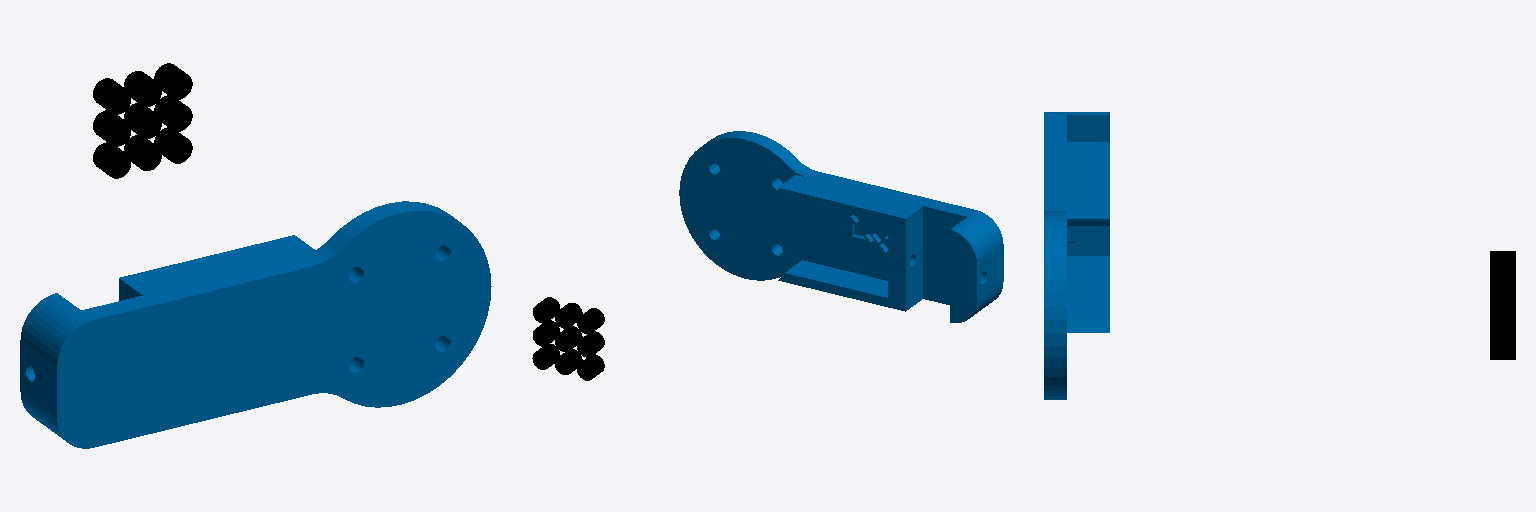
--- Facts derived from the render (not from the file) ---
3 views of the same robot in one strip: view 1: azimuth 30°, elevation 25°; view 2: azimuth 150°, elevation 25°; view 3: azimuth 270°, elevation 25° (orthographic).
Robot: ur5e_cam — 34 links, 33 joints (15 revolute, 18 fixed); root link world; default pose: all joints at 0.
Links seen in each view (by area): view 1: support, vacuum_gripper5, vacuum_gripper3, vacuum_gripper7, vacuum_gripper6, vacuum_gripper1, vacuum_gripper4, vacuum_gripper8, vacuum_gripper2, vacuum_gripper; view 2: support; view 3: support, vacuum_gripper4, vacuum_gripper6, vacuum_gripper8.
Boxes of the visible links, x1=… form: support: x1=20, y1=201, x2=491, y2=448; vacuum_gripper5: x1=93, y1=78, x2=130, y2=114; vacuum_gripper3: x1=93, y1=110, x2=130, y2=146; vacuum_gripper7: x1=93, y1=142, x2=130, y2=178; vacuum_gripper6: x1=154, y1=63, x2=192, y2=99; vacuum_gripper1: x1=124, y1=71, x2=161, y2=106; vacuum_gripper4: x1=154, y1=95, x2=192, y2=131; vacuum_gripper8: x1=154, y1=127, x2=192, y2=163; vacuum_gripper2: x1=124, y1=135, x2=161, y2=170; vacuum_gripper: x1=124, y1=103, x2=161, y2=138; support: x1=679, y1=131, x2=1003, y2=322; support: x1=1044, y1=112, x2=1109, y2=399; vacuum_gripper4: x1=1490, y1=306, x2=1515, y2=331; vacuum_gripper6: x1=1490, y1=278, x2=1515, y2=302; vacuum_gripper8: x1=1490, y1=335, x2=1515, y2=359.
Size in the robot's own frame: 0.1775 by 0.1869 by 0.075 metres.
1 mesh visuals loaded from 11 distinct referenced files (1 binary STL); not drawn: 10 (reference not matched to a file when rendering).

URDF robot description (ur5e_cam):
<?xml version="1.0" ?>
<!-- =================================================================================== -->
<!-- |    This document was autogenerated by xacro from [local-path]/tfm_ws/src/TFM_AlbertoLosa_2122/ur5e_cam_description/urdf/ur5e_robot_camera-grippers_vgc10_sim.urdf.xacro | -->
<!-- |    EDITING THIS FILE BY HAND IS NOT RECOMMENDED                                 | -->
<!-- =================================================================================== -->
<robot name="ur5e_cam">
    <!--
    Main xacro macro definition of the "Gazebo robot" model.

    This wraps the model of the real robot and adds all elements and parameters
    required by Gazebo.

    It also adds the gazebo_ros_control plugin.

    NOTE: this is NOT a URDF. It cannot directly be loaded by consumers
    expecting a flattened '.urdf' file. See the top-level '.xacro' for that
    (but note: that .xacro must still be processed by the xacro command).

    For use in '.launch' files: use one of the 'load_urX.launch' convenience
    launch files.

    NOTE: this Gazebo model makes use of the same set of parameter files as the
    main xacro macro (in ur_description). It is therefor possible to use the
    kinematic calibration exported from a REAL UR robot. Please refer to the
    ur_macro.xacro in ur_description for more information about this.

    Main author of the migration to yaml configs: Ludovic Delval.

    Contributors to previous versions (in no particular order):

     - Felix Messmer
     - Kelsey Hawkins
     - Shaun Edwards
     - Alexander Bubeck
     - Nadia Hammoudeh Garcia
     - G. vd. Hoorn
     - Dave Niewinski
     - Andy Zelenak
     - Miguel Prada
     - Mathias Luedtke
     - Hans-Joachim Krauch
     - Felix Exner
  -->
    <!--
    Base UR robot series xacro macro.

    NOTE: this is NOT a URDF. It cannot directly be loaded by consumers
    expecting a flattened '.urdf' file. See the top-level '.xacro' for that
    (but note: that .xacro must still be processed by the xacro command).

    For use in '.launch' files: use one of the 'load_urX.launch' convenience
    launch files.

    This file models the base kinematic chain of a UR robot, which then gets
    parameterised by various configuration files to convert it into a UR3(e),
    UR5(e), UR10(e) or UR16e.

    NOTE: the default kinematic parameters (ie: link lengths, frame locations,
    offets, etc) do not correspond to any particular robot. They are defaults
    only. There WILL be non-zero offsets between the Forward Kinematics results
    in TF (ie: robot_state_publisher) and the values reported by the Teach
    Pendant.

    For accurate (and robot-specific) transforms, the 'kinematics_parameters_file'
    parameter MUST point to a .yaml file containing the appropriate values for
    the targetted robot.

    If using the UniversalRobots/Universal_Robots_ROS_Driver, follow the steps
    described in the readme of that repository to extract the kinematic
    calibration from the controller and generate the required .yaml file.

    Main author of the migration to yaml configs: Ludovic Delval.

    Contributors to previous versions (in no particular order):

     - Felix Messmer
     - Kelsey Hawkins
     - Wim Meeussen
     - Shaun Edwards
     - Nadia Hammoudeh Garcia
     - Dave Hershberger
     - G. vd. Hoorn
     - Philip Long
     - Dave Coleman
     - Miguel Prada
     - Mathias Luedtke
     - Marcel Schnirring
     - Felix von Drigalski
     - Felix Exner
     - Jimmy Da Silva
     - Ajit Krisshna N L
     - Muhammad Asif Rana
  -->
    <!--
    NOTE: the macro defined in this file is NOT part of the public API of this
          package. Users CANNOT rely on this file being available, or stored in
          this location. Nor can they rely on the existence of the macro.
  -->
    <transmission name="shoulder_pan_trans">
        <type>transmission_interface/SimpleTransmission</type>
        <joint name="shoulder_pan_joint">
            <hardwareInterface>hardware_interface/PositionJointInterface</hardwareInterface>
        </joint>
        <actuator name="shoulder_pan_motor">
            <mechanicalReduction>1</mechanicalReduction>
            <hardwareInterface>hardware_interface/PositionJointInterface</hardwareInterface>
        </actuator>
    </transmission>
    <transmission name="shoulder_lift_trans">
        <type>transmission_interface/SimpleTransmission</type>
        <joint name="shoulder_lift_joint">
            <hardwareInterface>hardware_interface/PositionJointInterface</hardwareInterface>
        </joint>
        <actuator name="shoulder_lift_motor">
            <mechanicalReduction>1</mechanicalReduction>
            <hardwareInterface>hardware_interface/PositionJointInterface</hardwareInterface>
        </actuator>
    </transmission>
    <transmission name="elbow_trans">
        <type>transmission_interface/SimpleTransmission</type>
        <joint name="elbow_joint">
            <hardwareInterface>hardware_interface/PositionJointInterface</hardwareInterface>
        </joint>
        <actuator name="elbow_motor">
            <mechanicalReduction>1</mechanicalReduction>
            <hardwareInterface>hardware_interface/PositionJointInterface</hardwareInterface>
        </actuator>
    </transmission>
    <transmission name="wrist_1_trans">
        <type>transmission_interface/SimpleTransmission</type>
        <joint name="wrist_1_joint">
            <hardwareInterface>hardware_interface/PositionJointInterface</hardwareInterface>
        </joint>
        <actuator name="wrist_1_motor">
            <mechanicalReduction>1</mechanicalReduction>
            <hardwareInterface>hardware_interface/PositionJointInterface</hardwareInterface>
        </actuator>
    </transmission>
    <transmission name="wrist_2_trans">
        <type>transmission_interface/SimpleTransmission</type>
        <joint name="wrist_2_joint">
            <hardwareInterface>hardware_interface/PositionJointInterface</hardwareInterface>
        </joint>
        <actuator name="wrist_2_motor">
            <mechanicalReduction>1</mechanicalReduction>
            <hardwareInterface>hardware_interface/PositionJointInterface</hardwareInterface>
        </actuator>
    </transmission>
    <transmission name="wrist_3_trans">
        <type>transmission_interface/SimpleTransmission</type>
        <joint name="wrist_3_joint">
            <hardwareInterface>hardware_interface/PositionJointInterface</hardwareInterface>
        </joint>
        <actuator name="wrist_3_motor">
            <mechanicalReduction>1</mechanicalReduction>
            <hardwareInterface>hardware_interface/PositionJointInterface</hardwareInterface>
        </actuator>
    </transmission>
    <!-- links: main serial chain -->
    <link name="base_link" />
    <link name="base_link_inertia">
        <visual>
            <origin rpy="0 0 3.141592653589793" xyz="0 0 0" />
            <geometry>
                <mesh filename="package://ur_description/meshes/ur5/visual/base.dae" />
            </geometry>
            <material name="LightGrey">
                <color rgba="0.7 0.7 0.7 1.0" />
            </material>
        </visual>
        <collision>
            <origin rpy="0 0 3.141592653589793" xyz="0 0 0" />
            <geometry>
                <mesh filename="package://ur_description/meshes/ur5/collision/base.stl" />
            </geometry>
        </collision>
        <inertial>
            <mass value="4.0" />
            <origin rpy="0 0 0" xyz="0 0 0" />
            <inertia ixx="0.00443333156" ixy="0.0" ixz="0.0" iyy="0.00443333156" iyz="0.0" izz="0.0072" />
        </inertial>
    </link>
    <link name="shoulder_link">
        <visual>
            <origin rpy="0 0 3.141592653589793" xyz="0 0 0" />
            <geometry>
                <mesh filename="package://ur_description/meshes/ur5/visual/shoulder.dae" />
            </geometry>
            <material name="LightGrey">
                <color rgba="0.7 0.7 0.7 1.0" />
            </material>
        </visual>
        <collision>
            <origin rpy="0 0 3.141592653589793" xyz="0 0 0" />
            <geometry>
                <mesh filename="package://ur_description/meshes/ur5/collision/shoulder.stl" />
            </geometry>
        </collision>
        <inertial>
            <mass value="3.7" />
            <origin rpy="0 0 0" xyz="0 0 0" />
            <inertia ixx="0.014972352344389999" ixy="0.0" ixz="0.0" iyy="0.014972352344389999" iyz="0.0" izz="0.01040625" />
        </inertial>
    </link>
    <link name="upper_arm_link">
        <visual>
            <origin rpy="1.5707963267948966 0 -1.5707963267948966" xyz="0 0 0.13585" />
            <geometry>
                <mesh filename="package://ur_description/meshes/ur5/visual/upperarm.dae" />
            </geometry>
            <material name="LightGrey">
                <color rgba="0.7 0.7 0.7 1.0" />
            </material>
        </visual>
        <collision>
            <origin rpy="1.5707963267948966 0 -1.5707963267948966" xyz="0 0 0.13585" />
            <geometry>
                <mesh filename="package://ur_description/meshes/ur5/collision/upperarm.stl" />
            </geometry>
        </collision>
        <inertial>
            <mass value="8.393" />
            <origin rpy="0 1.5707963267948966 0" xyz="-0.2125 0.0 0.136" />
            <inertia ixx="0.1338857818623325" ixy="0.0" ixz="0.0" iyy="0.1338857818623325" iyz="0.0" izz="0.0151074" />
        </inertial>
    </link>
    <link name="forearm_link">
        <visual>
            <origin rpy="1.5707963267948966 0 -1.5707963267948966" xyz="0 0 0.0165" />
            <geometry>
                <mesh filename="package://ur_description/meshes/ur5/visual/forearm.dae" />
            </geometry>
            <material name="LightGrey">
                <color rgba="0.7 0.7 0.7 1.0" />
            </material>
        </visual>
        <collision>
            <origin rpy="1.5707963267948966 0 -1.5707963267948966" xyz="0 0 0.0165" />
            <geometry>
                <mesh filename="package://ur_description/meshes/ur5/collision/forearm.stl" />
            </geometry>
        </collision>
        <inertial>
            <mass value="2.275" />
            <origin rpy="0 1.5707963267948966 0" xyz="-0.196125 0.0 0.0165" />
            <inertia ixx="0.03121679102890359" ixy="0.0" ixz="0.0" iyy="0.03121679102890359" iyz="0.0" izz="0.004095" />
        </inertial>
    </link>
    <link name="wrist_1_link">
        <visual>
            <!-- TODO: Move this to a parameter -->
            <origin rpy="1.5707963267948966 0 0" xyz="0 0 -0.093" />
            <geometry>
                <mesh filename="package://ur_description/meshes/ur5/visual/wrist1.dae" />
            </geometry>
            <material name="LightGrey">
                <color rgba="0.7 0.7 0.7 1.0" />
            </material>
        </visual>
        <collision>
            <origin rpy="1.5707963267948966 0 0" xyz="0 0 -0.093" />
            <geometry>
                <mesh filename="package://ur_description/meshes/ur5/collision/wrist1.stl" />
            </geometry>
        </collision>
        <inertial>
            <mass value="1.219" />
            <origin rpy="0 0 0" xyz="0 0 0" />
            <inertia ixx="0.0020138887777775" ixy="0.0" ixz="0.0" iyy="0.0020138887777775" iyz="0.0" izz="0.0021942" />
        </inertial>
    </link>
    <link name="wrist_2_link">
        <visual>
            <origin rpy="0 0 0" xyz="0 0 -0.095" />
            <geometry>
                <mesh filename="package://ur_description/meshes/ur5/visual/wrist2.dae" />
            </geometry>
            <material name="LightGrey">
                <color rgba="0.7 0.7 0.7 1.0" />
            </material>
        </visual>
        <collision>
            <origin rpy="0 0 0" xyz="0 0 -0.095" />
            <geometry>
                <mesh filename="package://ur_description/meshes/ur5/collision/wrist2.stl" />
            </geometry>
        </collision>
        <inertial>
            <mass value="1.219" />
            <origin rpy="0 0 0" xyz="0 0 0" />
            <inertia ixx="0.0018310388509175" ixy="0.0" ixz="0.0" iyy="0.0018310388509175" iyz="0.0" izz="0.0021942" />
        </inertial>
    </link>
    <link name="wrist_3_link">
        <visual>
            <origin rpy="1.5707963267948966 0 0" xyz="0 0 -0.0818" />
            <geometry>
                <mesh filename="package://ur_description/meshes/ur5/visual/wrist3.dae" />
            </geometry>
            <material name="LightGrey">
                <color rgba="0.7 0.7 0.7 1.0" />
            </material>
        </visual>
        <collision>
            <origin rpy="1.5707963267948966 0 0" xyz="0 0 -0.0818" />
            <geometry>
                <mesh filename="package://ur_description/meshes/ur5/collision/wrist3.stl" />
            </geometry>
        </collision>
        <inertial>
            <mass value="0.1879" />
            <origin rpy="0 0 0" xyz="0.0 0.0 -0.01525" />
            <inertia ixx="8.062472608343e-05" ixy="0.0" ixz="0.0" iyy="8.062472608343e-05" iyz="0.0" izz="0.0001321171875" />
        </inertial>
    </link>
    <!-- joints: main serial chain -->
    <joint name="base_link-base_link_inertia" type="fixed">
        <parent link="base_link" />
        <child link="base_link_inertia" />
        <!-- 'base_link' is REP-103 aligned (so X+ forward), while the internal
           frames of the robot/controller have X+ pointing backwards.
           Use the joint between 'base_link' and 'base_link_inertia' (a dummy
           link/frame) to introduce the necessary rotation over Z (of pi rad).
      -->
        <origin rpy="0 0 3.141592653589793" xyz="0 0 0" />
    </joint>
    <joint name="shoulder_pan_joint" type="revolute">
        <parent link="base_link_inertia" />
        <child link="shoulder_link" />
        <origin rpy="0 0 0" xyz="0 0 0.089159" />
        <axis xyz="0 0 1" />
        <limit effort="150.0" lower="-6.283185307179586" upper="6.283185307179586" velocity="3.141592653589793" />
        <dynamics damping="0" friction="0" />
    </joint>
    <joint name="shoulder_lift_joint" type="revolute">
        <parent link="shoulder_link" />
        <child link="upper_arm_link" />
        <origin rpy="1.570796327 0 0" xyz="0 0 0" />
        <axis xyz="0 0 1" />
        <limit effort="150.0" lower="-6.283185307179586" upper="6.283185307179586" velocity="3.141592653589793" />
        <dynamics damping="0" friction="0" />
    </joint>
    <joint name="elbow_joint" type="revolute">
        <parent link="upper_arm_link" />
        <child link="forearm_link" />
        <origin rpy="0 0 0" xyz="-0.425 0 0" />
        <axis xyz="0 0 1" />
        <limit effort="150.0" lower="-3.141592653589793" upper="3.141592653589793" velocity="3.141592653589793" />
        <dynamics damping="0" friction="0" />
    </joint>
    <joint name="wrist_1_joint" type="revolute">
        <parent link="forearm_link" />
        <child link="wrist_1_link" />
        <origin rpy="0 0 0" xyz="-0.39225 0 0.10915" />
        <axis xyz="0 0 1" />
        <limit effort="28.0" lower="-6.283185307179586" upper="6.283185307179586" velocity="3.141592653589793" />
        <dynamics damping="0" friction="0" />
    </joint>
    <joint name="wrist_2_joint" type="revolute">
        <parent link="wrist_1_link" />
        <child link="wrist_2_link" />
        <origin rpy="1.570796327 0 0" xyz="0 -0.09465 -1.941303950897609e-11" />
        <axis xyz="0 0 1" />
        <limit effort="28.0" lower="-6.283185307179586" upper="6.283185307179586" velocity="3.141592653589793" />
        <dynamics damping="0" friction="0" />
    </joint>
    <joint name="wrist_3_joint" type="revolute">
        <parent link="wrist_2_link" />
        <child link="wrist_3_link" />
        <origin rpy="1.570796326589793 3.141592653589793 3.141592653589793" xyz="0 0.0823 -1.688001216681175e-11" />
        <axis xyz="0 0 1" />
        <limit effort="28.0" lower="-6.283185307179586" upper="6.283185307179586" velocity="3.141592653589793" />
        <dynamics damping="0" friction="0" />
    </joint>
    <!-- ROS-Industrial 'base' frame: base_link to UR 'Base' Coordinates transform -->
    <link name="base" />
    <joint name="base_link-base_fixed_joint" type="fixed">
        <!-- Note the rotation over Z of pi radians: as base_link is REP-103
           aligned (ie: has X+ forward, Y+ left and Z+ up), this is needed
           to correctly align 'base' with the 'Base' coordinate system of
           the UR controller.
      -->
        <origin rpy="0 0 3.141592653589793" xyz="0 0 0" />
        <parent link="base_link" />
        <child link="base" />
    </joint>
    <!-- ROS-Industrial 'flange' frame: attachment point for EEF models -->
    <link name="flange" />
    <joint name="wrist_3-flange" type="fixed">
        <parent link="wrist_3_link" />
        <child link="flange" />
        <origin rpy="0 -1.5707963267948966 -1.5707963267948966" xyz="0 0 0" />
    </joint>
    <!-- ROS-Industrial 'tool0' frame: all-zeros tool frame -->
    <link name="tool0" />
    <joint name="flange-tool0" type="fixed">
        <!-- default toolframe: X+ left, Y+ up, Z+ front -->
        <origin rpy="1.5707963267948966 0 1.5707963267948966" xyz="0 0 0" />
        <parent link="flange" />
        <child link="tool0" />
    </joint>
    <!-- Configure self collision properties per link -->
    <gazebo reference="shoulder_link">
        <selfCollide>true</selfCollide>
        <plugin name="gazebo_ros_control">
            <robotNamespace>/</robotNamespace>
        </plugin>
    </gazebo>
    <gazebo reference="upper_arm_link">
        <selfCollide>true</selfCollide>
    </gazebo>
    <gazebo reference="forearm_link">
        <selfCollide>true</selfCollide>
    </gazebo>
    <gazebo reference="wrist_1_link">
        <selfCollide>true</selfCollide>
    </gazebo>
    <gazebo reference="wrist_3_link">
        <selfCollide>true</selfCollide>
    </gazebo>
    <gazebo reference="wrist_2_link">
        <selfCollide>true</selfCollide>
    </gazebo>
    <gazebo reference="ee_link">
        <selfCollide>true</selfCollide>
    </gazebo>
    <!--
      Inject Gazebo ROS Control plugin, which allows us to use ros_control
      controllers to control the virtual robot hw.
    -->
    <gazebo>
        <plugin filename="libgazebo_ros_control.so" name="ros_control">
            <!--robotNamespace>/</robotNamespace-->
            <!--robotSimType>gazebo_ros_control/DefaultRobotHWSim</robotSimType-->
        </plugin>
    </gazebo>
    <!--
    Attach the Gazebo model to Gazebo's world frame.

    Note: if you're looking to integrate a UR into a larger scene and need
    to add EEFs or other parts, DO NOT change this file or the 'world' link
    here. Create a NEW xacro instead and decide whether you need to add
    a 'world' link there.
  -->
    <link name="world" />
    <joint name="world_joint" type="fixed">
        <parent link="world" />
        <child link="base_link" />
        <origin rpy="0 0 0" xyz="0 0 0" />
    </joint>
    <!-- camera support -->
    <link name="support">
        <visual>
            <origin rpy="0 0 0" xyz="0 0 0" />
            <geometry>
                <mesh filename="package://ur5e_cam_description/meshes/soporte_cam.stl" scale="0.001 0.001 0.001" />
            </geometry>
        </visual>
    </link>
    <joint name="support_joint" type="fixed">
        <parent link="wrist_3_link" />
        <child link="support" />
        <origin rpy="0 0 0" xyz="0 0 0" />
    </joint>
    <material name="camera_aluminum">
        <color rgba="0.5 0.5 0.5 1" />
    </material>
    <!-- camera body, with origin at bottom screw mount -->
    <joint name="camera_joint" type="fixed">
        <origin rpy="0 -1.57 0" xyz="0.125 0 0.0191" />
        <parent link="support" />
        <child link="camera_bottom_screw_frame" />
    </joint>
    <link name="camera_bottom_screw_frame" />
    <joint name="camera_link_joint" type="fixed">
        <origin rpy="0 0 0" xyz="0 0.0175 0.0125" />
        <parent link="camera_bottom_screw_frame" />
        <child link="camera_link" />
    </joint>
    <link name="camera_link">
        <visual>
            <origin rpy="1.5707963267948966 0 1.5707963267948966" xyz="0.0149 -0.0175 0" />
            <geometry>
                <!-- <box size="${d435_cam_width} ${d435_cam_height} ${d435_cam_depth}"/> -->
                <mesh filename="package://realsense2_description_issaias/meshes/d435.dae" />
                <!--<mesh filename="package://realsense2_description/meshes/d435/d435.dae" />-->
            </geometry>
            <material name="camera_aluminum" />
        </visual>
        <collision>
            <origin rpy="0 0 0" xyz="0 -0.0175 0" />
            <geometry>
                <box size="0.02505 0.09 0.025" />
            </geometry>
        </collision>
        <inertial>
            <!-- The following are not reliable values, and should not be used for modeling -->
            <mass value="0.564" />
            <origin xyz="0 0 0" rpy="0 0 0" />
            <inertia ixx="0.003881243" ixy="0.0" ixz="0.0" iyy="0.000498940" iyz="0.0" izz="0.003879257" />
        </inertial>
    </link>
    <!-- camera depth joints and links -->
    <joint name="camera_depth_joint" type="fixed">
        <origin rpy="0 0 0" xyz="0 0 0" />
        <parent link="camera_link" />
        <child link="camera_depth_frame" />
    </joint>
    <link name="camera_depth_frame" />
    <joint name="camera_depth_optical_joint" type="fixed">
        <origin rpy="-1.5707963267948966 0 -1.5707963267948966" xyz="0 0 0" />
        <parent link="camera_depth_frame" />
        <child link="camera_depth_optical_frame" />
    </joint>
    <link name="camera_depth_optical_frame" />
    <!-- camera left IR joints and links -->
    <joint name="camera_left_ir_joint" type="fixed">
        <origin rpy="0 0 0" xyz="0 0.0 0" />
        <parent link="camera_depth_frame" />
        <child link="camera_left_ir_frame" />
    </joint>
    <link name="camera_left_ir_frame" />
    <joint name="camera_left_ir_optical_joint" type="fixed">
        <origin rpy="-1.5707963267948966 0 -1.5707963267948966" xyz="0 0 0" />
        <parent link="camera_left_ir_frame" />
        <child link="camera_left_ir_optical_frame" />
    </joint>
    <link name="camera_left_ir_optical_frame" />
    <!-- camera right IR joints and links -->
    <joint name="camera_right_ir_joint" type="fixed">
        <origin rpy="0 0 0" xyz="0 -0.05 0" />
        <parent link="camera_depth_frame" />
        <child link="camera_right_ir_frame" />
    </joint>
    <link name="camera_right_ir_frame" />
    <joint name="camera_right_ir_optical_joint" type="fixed">
        <origin rpy="-1.5707963267948966 0 -1.5707963267948966" xyz="0 0 0" />
        <parent link="camera_right_ir_frame" />
        <child link="camera_right_ir_optical_frame" />
    </joint>
    <link name="camera_right_ir_optical_frame" />
    <!-- camera color joints and links -->
    <joint name="camera_color_joint" type="fixed">
        <origin rpy="0 0 0" xyz="0 0.015 0" />
        <parent link="camera_depth_frame" />
        <child link="camera_color_frame" />
    </joint>
    <link name="camera_color_frame" />
    <joint name="camera_color_optical_joint" type="fixed">
        <origin rpy="-1.5707963267948966 0 -1.5707963267948966" xyz="0 0 0" />
        <parent link="camera_color_frame" />
        <child link="camera_color_optical_frame" />
    </joint>
    <link name="camera_color_optical_frame" />
    <gazebo reference="camera_link">
        <self_collide>0</self_collide>
        <enable_wind>0</enable_wind>
        <kinematic>0</kinematic>
        <gravity>1</gravity>
        <!--<mu>1</mu>-->
        <mu2>1</mu2>
        <fdir1>0 0 0</fdir1>
        <!--<slip1>0</slip1>
      <slip2>0</slip2>-->
        <kp>1e+13</kp>
        <kd>1</kd>
        <!--<max_vel>0.01</max_vel>
      <min_depth>0</min_depth>-->
        <sensor name="cameracolor" type="camera">
            <camera name="camera">
                <!-- <horizontal_fov>${69.4*deg_to_rad}</horizontal_fov> -->
                <horizontal_fov>1.4870205226991688</horizontal_fov>
                <image>
                    <width>1280</width>
                    <height>720</height>
                    <!-- <width>640</width>
            <height>480</height> -->
                    <format>RGB_INT8</format>
                </image>
                <clip>
                    <near>0.1</near>
                    <far>100</far>
                </clip>
                <noise>
                    <type>gaussian</type>
                    <mean>0.0</mean>
                    <stddev>0.007</stddev>
                </noise>
            </camera>
            <always_on>1</always_on>
            <update_rate>30</update_rate>
            <visualize>1</visualize>
        </sensor>
        <sensor name="cameraired1" type="camera">
            <camera name="camera">
                <horizontal_fov>1.4870205226991688</horizontal_fov>
                <image>
                    <width>1280</width>
                    <height>720</height>
                    <format>L_INT8</format>
                </image>
                <clip>
                    <near>0.1</near>
                    <far>100</far>
                </clip>
                <noise>
                    <type>gaussian</type>
                    <mean>0.0</mean>
                    <stddev>0.05</stddev>
                </noise>
            </camera>
            <always_on>1</always_on>
            <update_rate>90</update_rate>
            <visualize>0</visualize>
        </sensor>
        <sensor name="cameraired2" type="camera">
            <camera name="camera">
                <horizontal_fov>1.4870205226991688</horizontal_fov>
                <image>
                    <width>1280</width>
                    <height>720</height>
                    <format>L_INT8</format>
                </image>
                <clip>
                    <near>0.1</near>
                    <far>100</far>
                </clip>
                <noise>
                    <type>gaussian</type>
                    <mean>0.0</mean>
                    <stddev>0.05</stddev>
                </noise>
            </camera>
            <always_on>1</always_on>
            <update_rate>90</update_rate>
            <visualize>0</visualize>
        </sensor>
        <sensor name="cameradepth" type="depth">
            <camera name="camera">
                <horizontal_fov>1.4870205226991688</horizontal_fov>
                <image>
                    <width>1280</width>
                    <height>720</height>
                </image>
                <clip>
                    <near>0.1</near>
                    <far>100</far>
                </clip>
                <noise>
                    <type>gaussian</type>
                    <mean>0.0</mean>
                    <stddev>0.100</stddev>
                </noise>
            </camera>
            <always_on>1</always_on>
            <update_rate>90</update_rate>
            <visualize>0</visualize>
        </sensor>
    </gazebo>
    <gazebo>
        <plugin filename="librealsense_gazebo_plugin.so" name="camera">
            <prefix>camera</prefix>
            <depthUpdateRate>30.0</depthUpdateRate>
            <colorUpdateRate>30.0</colorUpdateRate>
            <infraredUpdateRate>30.0</infraredUpdateRate>
            <depthTopicName>depth/image_raw</depthTopicName>
            <depthCameraInfoTopicName>depth/camera_info</depthCameraInfoTopicName>
            <colorTopicName>color/image_raw</colorTopicName>
            <colorCameraInfoTopicName>color/camera_info</colorCameraInfoTopicName>
            <infrared1TopicName>infra1/image_raw</infrared1TopicName>
            <infrared1CameraInfoTopicName>infra1/camera_info</infrared1CameraInfoTopicName>
            <infrared2TopicName>infra2/image_raw</infrared2TopicName>
            <infrared2CameraInfoTopicName>infra2/camera_info</infrared2CameraInfoTopicName>
            <colorOpticalframeName>camera_color_optical_frame</colorOpticalframeName>
            <depthOpticalframeName>camera_depth_optical_frame</depthOpticalframeName>
            <infrared1OpticalframeName>camera_left_ir_optical_frame</infrared1OpticalframeName>
            <infrared2OpticalframeName>camera_right_ir_optical_frame</infrared2OpticalframeName>
            <rangeMinDepth>0.2</rangeMinDepth>
            <rangeMaxDepth>10.0</rangeMaxDepth>
            <pointCloud>True</pointCloud>
            <pointCloudTopicName>depth/color/points</pointCloudTopicName>
            <pointCloudCutoff>0.25</pointCloudCutoff>
            <pointCloudCutoffMax>9.0</pointCloudCutoffMax>
        </plugin>
    </gazebo>
    <link name="onrobot_vgc10_base_link">
        <inertial>
            <origin rpy="0 0 0" xyz="0.0 0.0 0.0" />
            <mass value="0.6" />
            <inertia ixx="1.0E-03" ixy="1.0E-06" ixz="1.0E-06" iyy="1.0E-03" iyz="1.0E-06" izz="1.0E-03" />
        </inertial>
        <visual>
            <origin rpy="0 0 0" xyz="0 0 0" />
            <geometry>
                <mesh filename="package://onrobot_vg_description/meshes/vgc10/visual/base_link_1cup.stl" />
            </geometry>
            <material name="">
                <color rgba="0.8 0.8 0.8 1" />
            </material>
        </visual>
        <collision>
            <origin rpy="0 0 0" xyz="0 0 0" />
            <geometry>
                <mesh filename="package://onrobot_vg_description/meshes/vgc10/collision/base_link_1cup.stl" />
            </geometry>
        </collision>
    </link>
    <link name="suction">
        <inertial>
            <origin rpy="0 0 0" xyz="0.0 0.0 0.0" />
            <mass value="0.2" />
            <inertia ixx="1.0E-03" ixy="1.0E-06" ixz="1.0E-06" iyy="1.0E-03" iyz="1.0E-06" izz="1.0E-03" />
        </inertial>
        <visual>
            <origin rpy="0 0 0" xyz="0 0 0" />
            <geometry>
                <mesh filename="package://onrobot_vg_description/meshes/vgc10/visual/suction_cup_1cup.stl" />
            </geometry>
            <material name="">
                <color rgba="0.9 0.9 0.9 1" />
            </material>
        </visual>
        <collision>
            <origin rpy="0 0 0" xyz="0 0 0" />
            <geometry>
                <mesh filename="package://onrobot_vg_description/meshes/vgc10/collision/suction_cup_1cup.stl" />
            </geometry>
        </collision>
    </link>
    <joint name="_suction_joint" type="fixed">
        <origin rpy="0 0 0" xyz="0 0 0.094901" />
        <parent link="onrobot_vgc10_base_link" />
        <child link="suction" />
        <axis xyz="1 0 0" />
    </joint>
    <joint name="robot_vgc10_joint" type="fixed">
        <parent link="support" />
        <child link="onrobot_vgc10_base_link" />
        <origin rpy="0 0 0" xyz="0 0 0.009" />
    </joint>
    <link name="vacuum_gripper">
        <gravity>0</gravity>
        <visual>
            <origin rpy="0 0 0" xyz="0 0 0" />
            <geometry>
                <cylinder length="0.01" radius="0.005" />
            </geometry>
            <material name="transparent">
                <color rgba="0 0 0 0" />
            </material>
        </visual>
        <inertial>
            <origin rpy="0 0 0" xyz="0.000000 0.000000 0.000000" />
            <mass value="0.0001" />
            <inertia ixx="1e-08" ixy="0" ixz="0" iyy="1e-08" iyz="0" izz="1e-08" />
        </inertial>
    </link>
    <joint name="gripper_joint" type="revolute">
        <axis xyz="1 0 0" />
        <parent link="suction" />
        <child link="vacuum_gripper" />
        <origin rpy="0 0 0" xyz="0 0 0.078" />
        <limit effort="50" lower="0" upper="0" velocity="50" />
        <dynamics damping="0.0" friction="10" />
    </joint>
    <gazebo>
        <plugin filename="libgazebo_ros_vacuum_gripper.so" name="gazebo_ros_vacuum_gripper">
            <robotNamespace>/ur5/vacuum_gripper</robotNamespace>
            <bodyName>vacuum_gripper</bodyName>
            <topicName>grasping</topicName>
            <maxForce>50</maxForce>
            <maxDistance>0.05</maxDistance>
            <minDistance>0.01</minDistance>
        </plugin>
    </gazebo>
    <link name="vacuum_gripper1">
        <gravity>0</gravity>
        <visual>
            <origin rpy="0 0 0" xyz="0 0 0" />
            <geometry>
                <cylinder length="0.01" radius="0.005" />
            </geometry>
            <material name="transparent">
                <color rgba="0 0 0 0" />
            </material>
        </visual>
        <inertial>
            <origin rpy="0 0 0" xyz="0.000000 0.000000 0.000000" />
            <mass value="0.0001" />
            <inertia ixx="1e-08" ixy="0" ixz="0" iyy="1e-08" iyz="0" izz="1e-08" />
        </inertial>
    </link>
    <joint name="gripper_joint1" type="revolute">
        <axis xyz="1 0 0" />
        <parent link="suction" />
        <child link="vacuum_gripper1" />
        <origin rpy="0 0 0" xyz="0 0.0125 0.078" />
        <limit effort="50" lower="0" upper="0" velocity="50" />
        <dynamics damping="0.0" friction="10" />
    </joint>
    <gazebo>
        <plugin filename="libgazebo_ros_vacuum_gripper.so" name="gazebo_ros_vacuum_gripper1">
            <robotNamespace>/ur5/vacuum_gripper1</robotNamespace>
            <bodyName>vacuum_gripper1</bodyName>
            <topicName>grasping1</topicName>
            <maxForce>50</maxForce>
            <maxDistance>0.05</maxDistance>
            <minDistance>0.01</minDistance>
        </plugin>
    </gazebo>
    <link name="vacuum_gripper2">
        <gravity>0</gravity>
        <visual>
            <origin rpy="0 0 0" xyz="0 0 0" />
            <geometry>
                <cylinder length="0.01" radius="0.005" />
            </geometry>
            <material name="transparent">
                <color rgba="0 0 0 0" />
            </material>
        </visual>
        <inertial>
            <origin rpy="0 0 0" xyz="0.000000 0.000000 0.000000" />
            <mass value="0.0001" />
            <inertia ixx="1e-08" ixy="0" ixz="0" iyy="1e-08" iyz="0" izz="1e-08" />
        </inertial>
    </link>
    <joint name="gripper_joint2" type="revolute">
        <axis xyz="1 0 0" />
        <parent link="suction" />
        <child link="vacuum_gripper2" />
        <origin rpy="0 0 0" xyz="0 -0.0125 0.078" />
        <limit effort="50" lower="0" upper="0" velocity="50" />
        <dynamics damping="0.0" friction="10" />
    </joint>
    <gazebo>
        <plugin filename="libgazebo_ros_vacuum_gripper.so" name="gazebo_ros_vacuum_gripper2">
            <robotNamespace>/ur5/vacuum_gripper2</robotNamespace>
            <bodyName>vacuum_gripper2</bodyName>
            <topicName>grasping2</topicName>
            <maxForce>50</maxForce>
            <maxDistance>0.05</maxDistance>
            <minDistance>0.01</minDistance>
        </plugin>
    </gazebo>
    <link name="vacuum_gripper3">
        <gravity>0</gravity>
        <visual>
            <origin rpy="0 0 0" xyz="0 0 0" />
            <geometry>
                <cylinder length="0.01" radius="0.005" />
            </geometry>
            <material name="transparent">
                <color rgba="0 0 0 0" />
            </material>
        </visual>
        <inertial>
            <origin rpy="0 0 0" xyz="0.000000 0.000000 0.000000" />
            <mass value="0.0001" />
            <inertia ixx="1e-08" ixy="0" ixz="0" iyy="1e-08" iyz="0" izz="1e-08" />
        </inertial>
    </link>
    <joint name="gripper_joint3" type="revolute">
        <axis xyz="1 0 0" />
        <parent link="suction" />
        <child link="vacuum_gripper3" />
        <origin rpy="0 0 0" xyz="0.0125 0 0.078" />
        <limit effort="50" lower="0" upper="0" velocity="50" />
        <dynamics damping="0.0" friction="10" />
    </joint>
    <gazebo>
        <plugin filename="libgazebo_ros_vacuum_gripper.so" name="gazebo_ros_vacuum_gripper3">
            <robotNamespace>/ur5/vacuum_gripper3</robotNamespace>
            <bodyName>vacuum_gripper3</bodyName>
            <topicName>grasping2</topicName>
            <maxForce>50</maxForce>
            <maxDistance>0.05</maxDistance>
            <minDistance>0.01</minDistance>
        </plugin>
    </gazebo>
    <link name="vacuum_gripper4">
        <gravity>0</gravity>
        <visual>
            <origin rpy="0 0 0" xyz="0 0 0" />
            <geometry>
                <cylinder length="0.01" radius="0.005" />
            </geometry>
            <material name="transparent">
                <color rgba="0 0 0 0" />
            </material>
        </visual>
        <inertial>
            <origin rpy="0 0 0" xyz="0.000000 0.000000 0.000000" />
            <mass value="0.0001" />
            <inertia ixx="1e-08" ixy="0" ixz="0" iyy="1e-08" iyz="0" izz="1e-08" />
        </inertial>
    </link>
    <joint name="gripper_joint4" type="revolute">
        <axis xyz="1 0 0" />
        <parent link="suction" />
        <child link="vacuum_gripper4" />
        <origin rpy="0 0 0" xyz="-0.0125 0 0.078" />
        <limit effort="50" lower="0" upper="0" velocity="50" />
        <dynamics damping="0.0" friction="10" />
    </joint>
    <gazebo>
        <plugin filename="libgazebo_ros_vacuum_gripper.so" name="gazebo_ros_vacuum_gripper4">
            <robotNamespace>/ur5/vacuum_gripper4</robotNamespace>
            <bodyName>vacuum_gripper4</bodyName>
            <topicName>grasping4</topicName>
            <maxForce>50</maxForce>
            <maxDistance>0.05</maxDistance>
            <minDistance>0.01</minDistance>
        </plugin>
    </gazebo>
    <link name="vacuum_gripper5">
        <gravity>0</gravity>
        <visual>
            <origin rpy="0 0 0" xyz="0 0 0" />
            <geometry>
                <cylinder length="0.01" radius="0.005" />
            </geometry>
            <material name="transparent">
                <color rgba="0 0 0 0" />
            </material>
        </visual>
        <inertial>
            <origin rpy="0 0 0" xyz="0.000000 0.000000 0.000000" />
            <mass value="0.0001" />
            <inertia ixx="1e-08" ixy="0" ixz="0" iyy="1e-08" iyz="0" izz="1e-08" />
        </inertial>
    </link>
    <joint name="gripper_joint5" type="revolute">
        <axis xyz="1 0 0" />
        <parent link="suction" />
        <child link="vacuum_gripper5" />
        <origin rpy="0 0 0" xyz="0.0125 0.0125 0.078" />
        <limit effort="50" lower="0" upper="0" velocity="50" />
        <dynamics damping="0.0" friction="10" />
    </joint>
    <gazebo>
        <plugin filename="libgazebo_ros_vacuum_gripper.so" name="gazebo_ros_vacuum_gripper">
            <robotNamespace>/ur5/vacuum_gripper5</robotNamespace>
            <bodyName>vacuum_gripper5</bodyName>
            <topicName>grasping5</topicName>
            <maxForce>50</maxForce>
            <maxDistance>0.05</maxDistance>
            <minDistance>0.01</minDistance>
        </plugin>
    </gazebo>
    <link name="vacuum_gripper6">
        <gravity>0</gravity>
        <visual>
            <origin rpy="0 0 0" xyz="0 0 0" />
            <geometry>
                <cylinder length="0.01" radius="0.005" />
            </geometry>
            <material name="transparent">
                <color rgba="0 0 0 0" />
            </material>
        </visual>
        <inertial>
            <origin rpy="0 0 0" xyz="0.000000 0.000000 0.000000" />
            <mass value="0.0001" />
            <inertia ixx="1e-08" ixy="0" ixz="0" iyy="1e-08" iyz="0" izz="1e-08" />
        </inertial>
    </link>
    <joint name="gripper_joint6" type="revolute">
        <axis xyz="1 0 0" />
        <parent link="suction" />
        <child link="vacuum_gripper6" />
        <origin rpy="0 0 0" xyz="-0.0125 0.0125 0.078" />
        <limit effort="50" lower="0" upper="0" velocity="50" />
        <dynamics damping="0.0" friction="10" />
    </joint>
    <gazebo>
        <plugin filename="libgazebo_ros_vacuum_gripper.so" name="gazebo_ros_vacuum_gripper1">
            <robotNamespace>/ur5/vacuum_gripper6</robotNamespace>
            <bodyName>vacuum_gripper6</bodyName>
            <topicName>grasping6</topicName>
            <maxForce>50</maxForce>
            <maxDistance>0.05</maxDistance>
            <minDistance>0.01</minDistance>
        </plugin>
    </gazebo>
    <link name="vacuum_gripper7">
        <gravity>0</gravity>
        <visual>
            <origin rpy="0 0 0" xyz="0 0 0" />
            <geometry>
                <cylinder length="0.01" radius="0.005" />
            </geometry>
            <material name="transparent">
                <color rgba="0 0 0 0" />
            </material>
        </visual>
        <inertial>
            <origin rpy="0 0 0" xyz="0.000000 0.000000 0.000000" />
            <mass value="0.0001" />
            <inertia ixx="1e-08" ixy="0" ixz="0" iyy="1e-08" iyz="0" izz="1e-08" />
        </inertial>
    </link>
    <joint name="gripper_joint7" type="revolute">
        <axis xyz="1 0 0" />
        <parent link="suction" />
        <child link="vacuum_gripper7" />
        <origin rpy="0 0 0" xyz="0.0125 -0.0125 0.078" />
        <limit effort="50" lower="0" upper="0" velocity="50" />
        <dynamics damping="0.0" friction="10" />
    </joint>
    <gazebo>
        <plugin filename="libgazebo_ros_vacuum_gripper.so" name="gazebo_ros_vacuum_gripper7">
            <robotNamespace>/ur5/vacuum_gripper7</robotNamespace>
            <bodyName>vacuum_gripper7</bodyName>
            <topicName>grasping7</topicName>
            <maxForce>50</maxForce>
            <maxDistance>0.05</maxDistance>
            <minDistance>0.01</minDistance>
        </plugin>
    </gazebo>
    <link name="vacuum_gripper8">
        <gravity>0</gravity>
        <visual>
            <origin rpy="0 0 0" xyz="0 0 0" />
            <geometry>
                <cylinder length="0.01" radius="0.005" />
            </geometry>
            <material name="transparent">
                <color rgba="0 0 0 0" />
            </material>
        </visual>
        <inertial>
            <origin rpy="0 0 0" xyz="0.000000 0.000000 0.000000" />
            <mass value="0.0001" />
            <inertia ixx="1e-08" ixy="0" ixz="0" iyy="1e-08" iyz="0" izz="1e-08" />
        </inertial>
    </link>
    <joint name="gripper_joint8" type="revolute">
        <axis xyz="1 0 0" />
        <parent link="suction" />
        <child link="vacuum_gripper8" />
        <origin rpy="0 0 0" xyz="-0.0125 -0.0125 0.078" />
        <limit effort="50" lower="0" upper="0" velocity="50" />
        <dynamics damping="0.0" friction="10" />
    </joint>
    <gazebo>
        <plugin filename="libgazebo_ros_vacuum_gripper.so" name="gazebo_ros_vacuum_gripper8">
            <robotNamespace>/ur5/vacuum_gripper8</robotNamespace>
            <bodyName>vacuum_gripper8</bodyName>
            <topicName>grasping8</topicName>
            <maxForce>50</maxForce>
            <maxDistance>0.05</maxDistance>
            <minDistance>0.01</minDistance>
        </plugin>
    </gazebo>
    <transmission name="trans_gripper_joint">
        <type>transmission_interface/SimpleTransmission</type>
        <joint name="gripper_joint">
            <hardwareInterface>hardware_interface/EffortJointInterface</hardwareInterface>
        </joint>
        <actuator name="gripper_joint_motor">
            <hardwareInterface>hardware_interface/EffortJointInterface</hardwareInterface>
            <mechanicalReduction>1</mechanicalReduction>
        </actuator>
    </transmission>
    <transmission name="trans_gripper_joint1">
        <type>transmission_interface/SimpleTransmission</type>
        <joint name="gripper_joint1">
            <hardwareInterface>hardware_interface/EffortJointInterface</hardwareInterface>
        </joint>
        <actuator name="gripper_joint1_motor">
            <hardwareInterface>hardware_interface/EffortJointInterface</hardwareInterface>
            <mechanicalReduction>1</mechanicalReduction>
        </actuator>
    </transmission>
    <transmission name="trans_gripper_joint2">
        <type>transmission_interface/SimpleTransmission</type>
        <joint name="gripper_joint2">
            <hardwareInterface>hardware_interface/EffortJointInterface</hardwareInterface>
        </joint>
        <actuator name="gripper_joint2_motor">
            <hardwareInterface>hardware_interface/EffortJointInterface</hardwareInterface>
            <mechanicalReduction>1</mechanicalReduction>
        </actuator>
    </transmission>
    <transmission name="trans_gripper_joint3">
        <type>transmission_interface/SimpleTransmission</type>
        <joint name="gripper_joint3">
            <hardwareInterface>hardware_interface/EffortJointInterface</hardwareInterface>
        </joint>
        <actuator name="gripper_joint3_motor">
            <hardwareInterface>hardware_interface/EffortJointInterface</hardwareInterface>
            <mechanicalReduction>1</mechanicalReduction>
        </actuator>
    </transmission>
    <transmission name="trans_gripper_joint4">
        <type>transmission_interface/SimpleTransmission</type>
        <joint name="gripper_joint4">
            <hardwareInterface>hardware_interface/EffortJointInterface</hardwareInterface>
        </joint>
        <actuator name="gripper_joint4_motor">
            <hardwareInterface>hardware_interface/EffortJointInterface</hardwareInterface>
            <mechanicalReduction>1</mechanicalReduction>
        </actuator>
    </transmission>
    <transmission name="trans_gripper_joint5">
        <type>transmission_interface/SimpleTransmission</type>
        <joint name="gripper_joint5">
            <hardwareInterface>hardware_interface/EffortJointInterface</hardwareInterface>
        </joint>
        <actuator name="gripper_joint5_motor">
            <hardwareInterface>hardware_interface/EffortJointInterface</hardwareInterface>
            <mechanicalReduction>1</mechanicalReduction>
        </actuator>
    </transmission>
    <transmission name="trans_gripper_joint6">
        <type>transmission_interface/SimpleTransmission</type>
        <joint name="gripper_joint6">
            <hardwareInterface>hardware_interface/EffortJointInterface</hardwareInterface>
        </joint>
        <actuator name="gripper_joint6_motor">
            <hardwareInterface>hardware_interface/EffortJointInterface</hardwareInterface>
            <mechanicalReduction>1</mechanicalReduction>
        </actuator>
    </transmission>
    <transmission name="trans_gripper_joint7">
        <type>transmission_interface/SimpleTransmission</type>
        <joint name="gripper_joint7">
            <hardwareInterface>hardware_interface/EffortJointInterface</hardwareInterface>
        </joint>
        <actuator name="gripper_joint7_motor">
            <hardwareInterface>hardware_interface/EffortJointInterface</hardwareInterface>
            <mechanicalReduction>1</mechanicalReduction>
        </actuator>
    </transmission>
    <transmission name="trans_gripper_joint8">
        <type>transmission_interface/SimpleTransmission</type>
        <joint name="gripper_joint8">
            <hardwareInterface>hardware_interface/EffortJointInterface</hardwareInterface>
        </joint>
        <actuator name="gripper_joint8_motor">
            <hardwareInterface>hardware_interface/EffortJointInterface</hardwareInterface>
            <mechanicalReduction>1</mechanicalReduction>
        </actuator>
    </transmission>
</robot>
